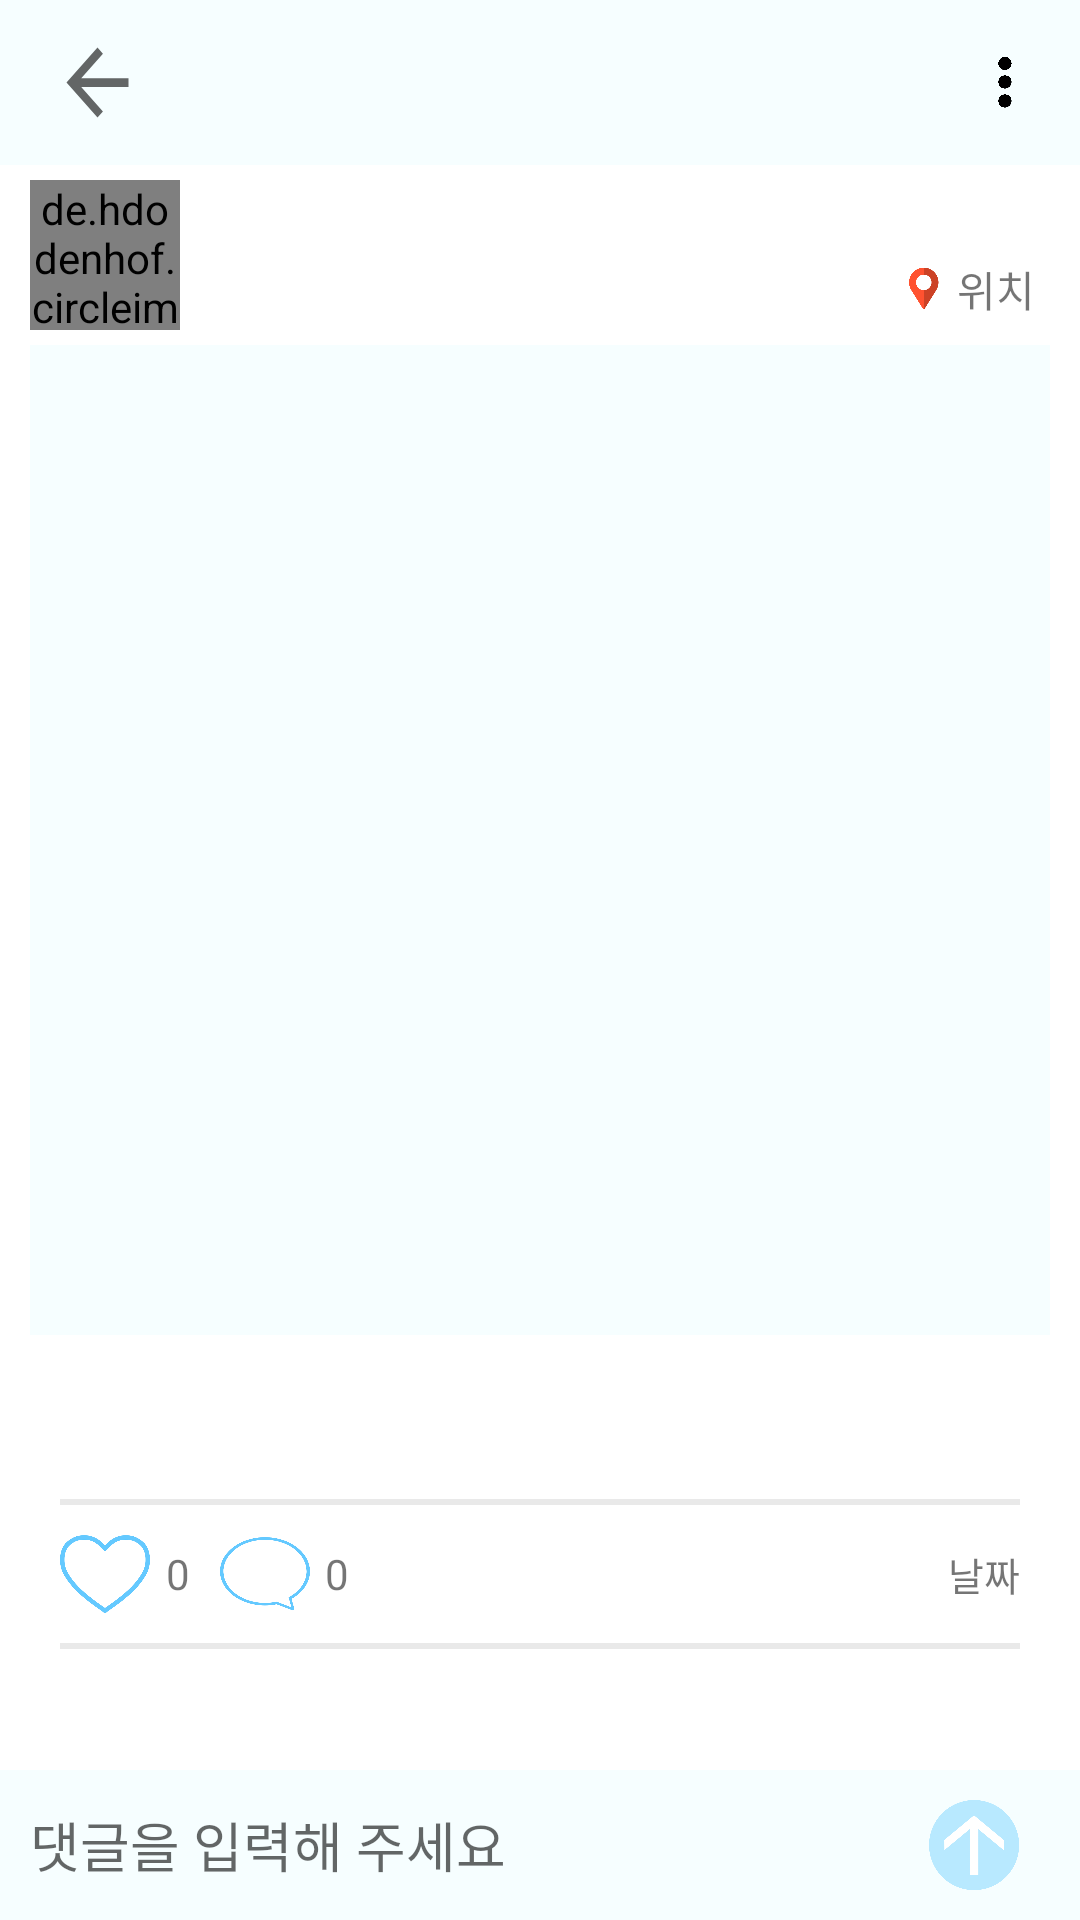

Where to tap for icons on this 1080px x 1920px app screen, as (x,y):
comment: (265,1573)
commentup: (974,1845)
heart: (105,1574)
marker: (924,288)
point menu: (1005,82)
